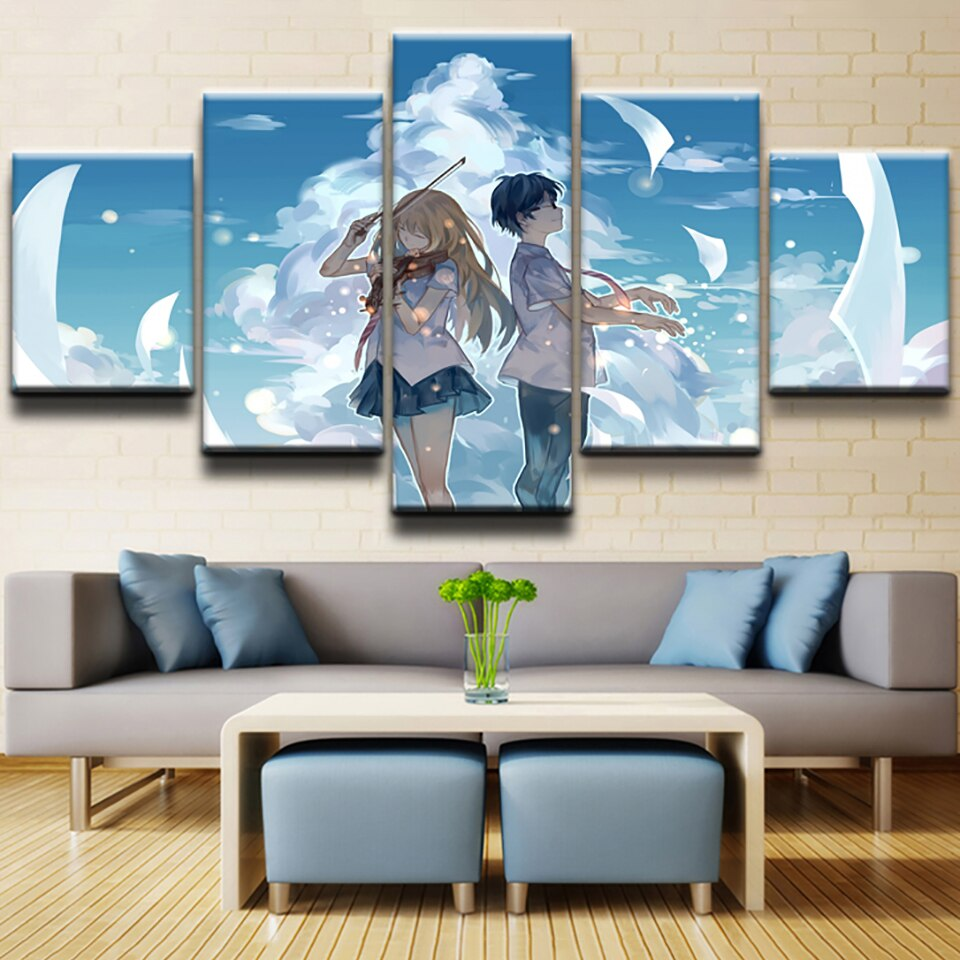lukisan: (8, 27, 942, 525)
